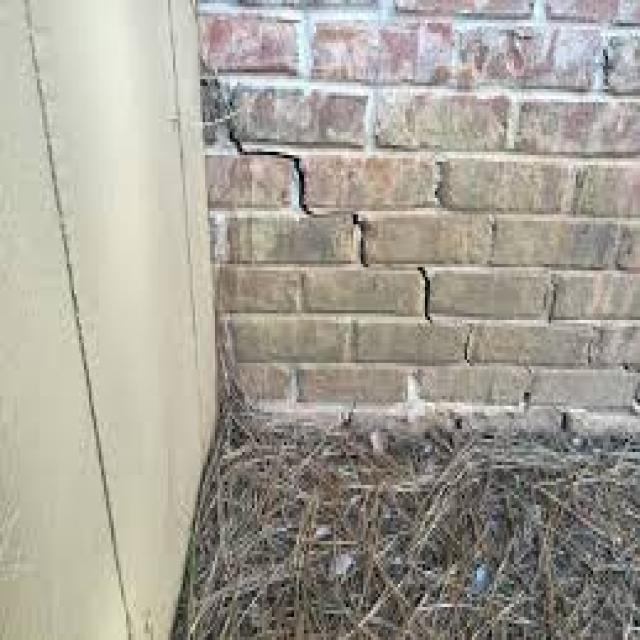Crack: (198, 69, 494, 363)
